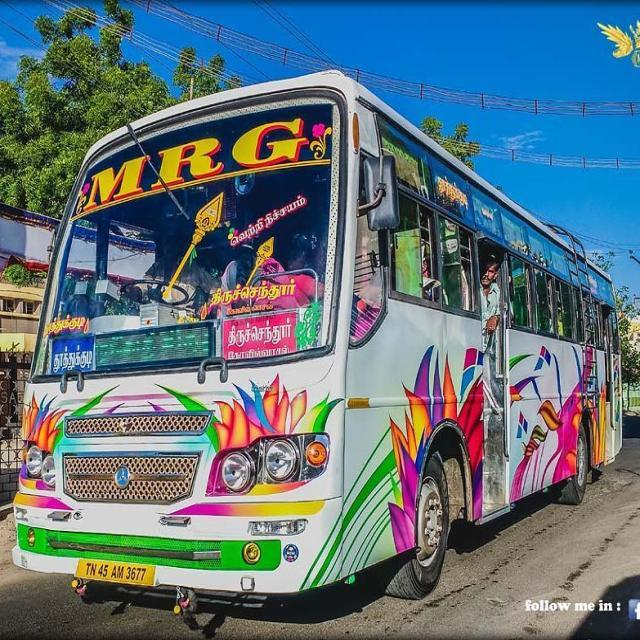Bus: (11, 68, 628, 612)
